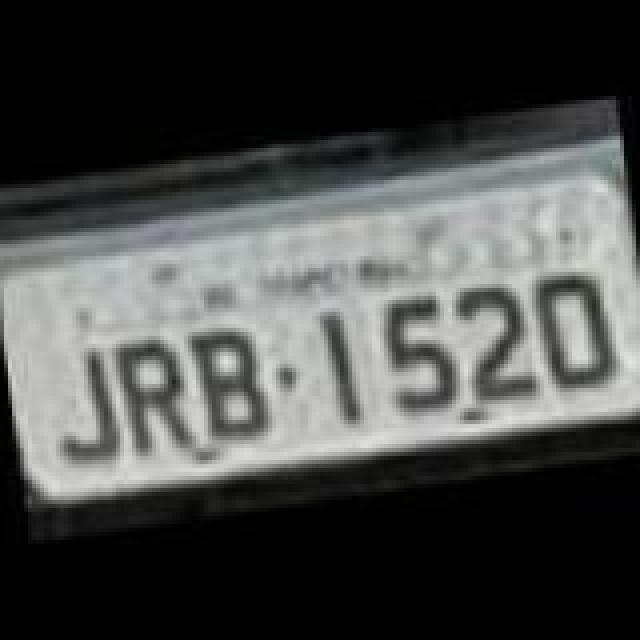1: (310, 298, 366, 426)
2: (454, 270, 538, 402)
5: (378, 288, 458, 420)
B: (190, 318, 278, 446)
J: (44, 336, 120, 464)
O: (536, 266, 616, 398)
R: (110, 332, 198, 464)
